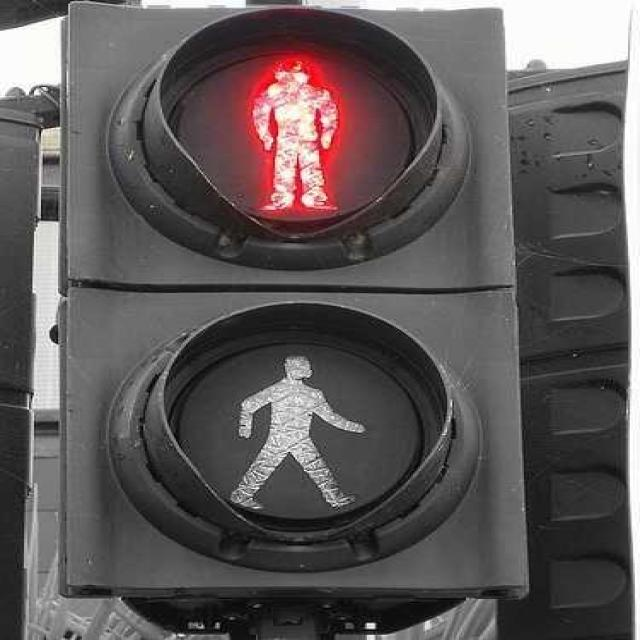Traffic Light -Red-: (58, 0, 541, 614)
